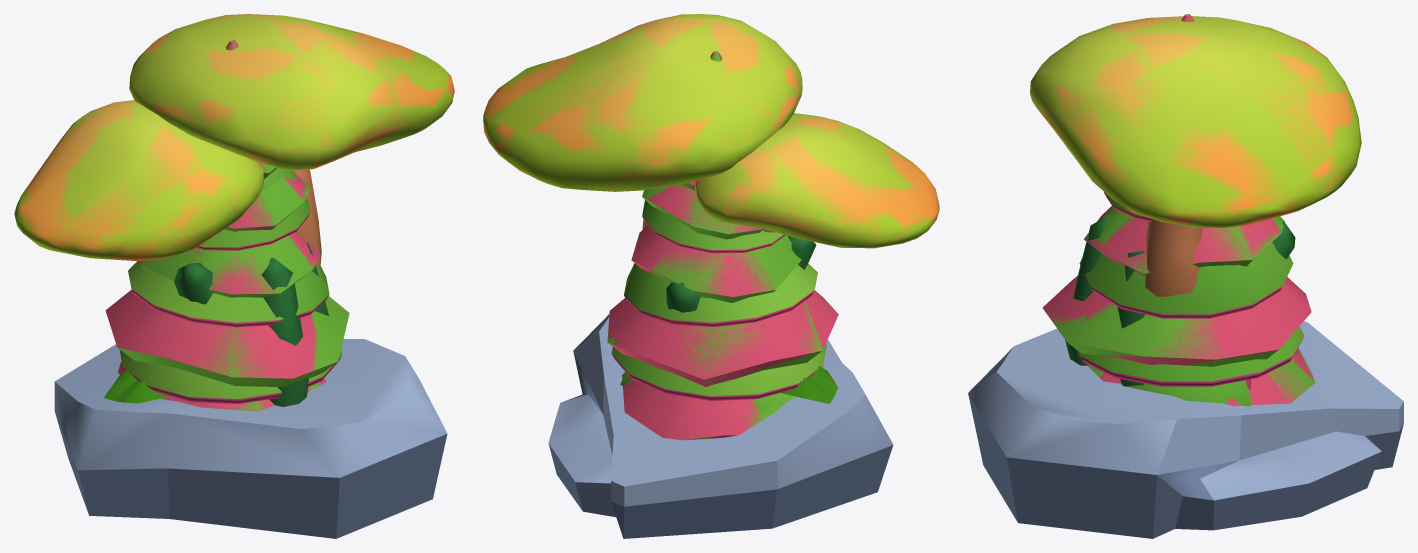
File: decor farmland3d.fbx
The picture shows the model from 3 angles, left to right: view 1: azimuth 30°, elevation 25°; view 2: azimuth 150°, elevation 25°; view 3: azimuth 270°, elevation 25°; orthographic projection. The views are drawn at different scales.
Parts seen in each view (by area): view 1: cay_5, rock_2, cay_6, cay_4, cay_3, cay_2, co, cay_1, hoa_1; view 2: cay_5, rock_2, cay_6, cay_4, cay_2, cay_3, cay_1, co, hoa_1; view 3: rock_2, cay_5, cay_6, cay_4, cay_2, cay_3, co, cay_1, co_1.
Part boxes in pixels (box(x1,y1,x2,y2)): cay_5: box(14, 15, 454, 267); rock_2: box(54, 339, 447, 538); cay_6: box(15, 14, 454, 260); cay_4: box(105, 40, 326, 410); cay_3: box(118, 40, 349, 411); cay_2: box(119, 168, 342, 398); co: box(174, 242, 328, 406); cay_1: box(123, 212, 341, 403); hoa_1: box(104, 369, 167, 403); cay_5: box(483, 14, 936, 248); rock_2: box(548, 314, 893, 538); cay_6: box(483, 14, 939, 247); cay_4: box(608, 51, 838, 440); cay_2: box(611, 200, 826, 396); cay_3: box(607, 51, 822, 440); cay_1: box(612, 217, 822, 400); co: box(666, 236, 816, 312); hoa_1: box(782, 366, 838, 403); rock_2: box(968, 321, 1403, 538); cay_5: box(1030, 16, 1361, 296); cay_6: box(1032, 16, 1361, 295); cay_4: box(1042, 14, 1314, 406); cay_2: box(1077, 192, 1304, 381); cay_3: box(1048, 14, 1315, 402); co: box(1065, 214, 1295, 386); cay_1: box(1076, 193, 1304, 386); co_1: box(1129, 379, 1251, 406).
Size of the model in its own units: 11181 by 10879 by 9380.
